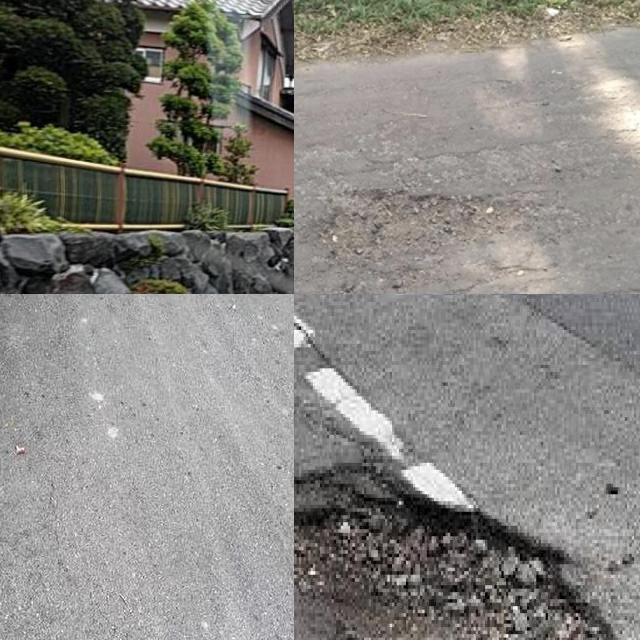Lubang: (294, 470, 623, 640), (322, 182, 495, 261)
